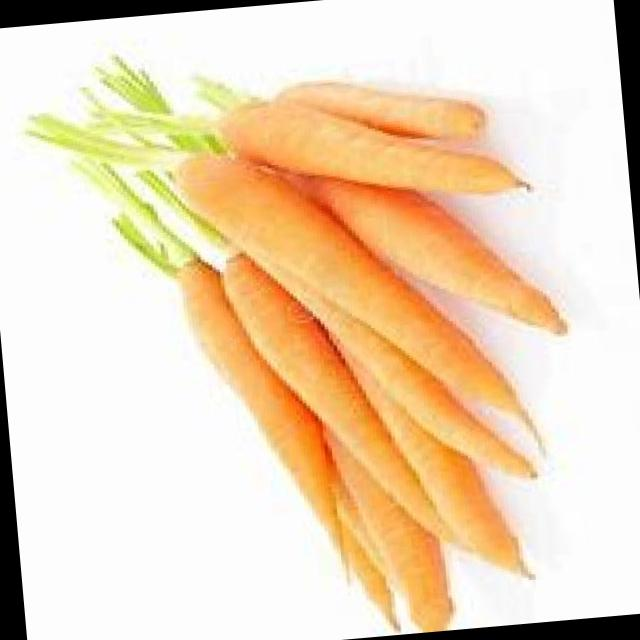carrot: (175, 157, 525, 429), (222, 256, 461, 545), (174, 255, 342, 561), (221, 97, 521, 196)
